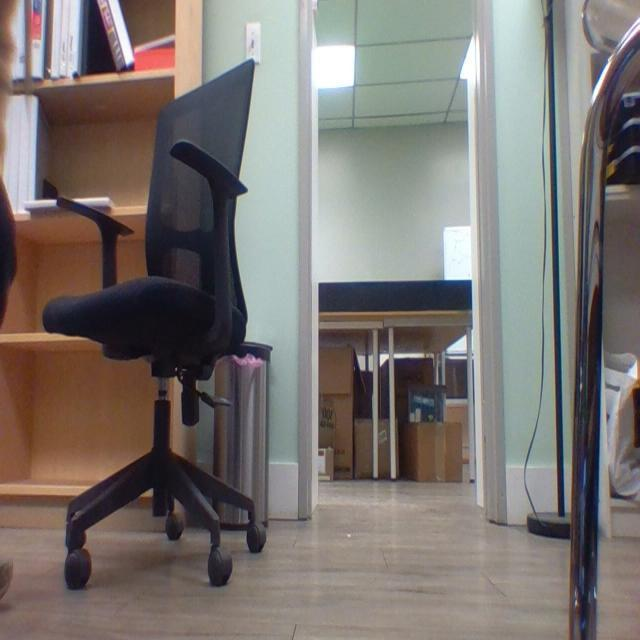chair: (42, 59, 265, 603)
